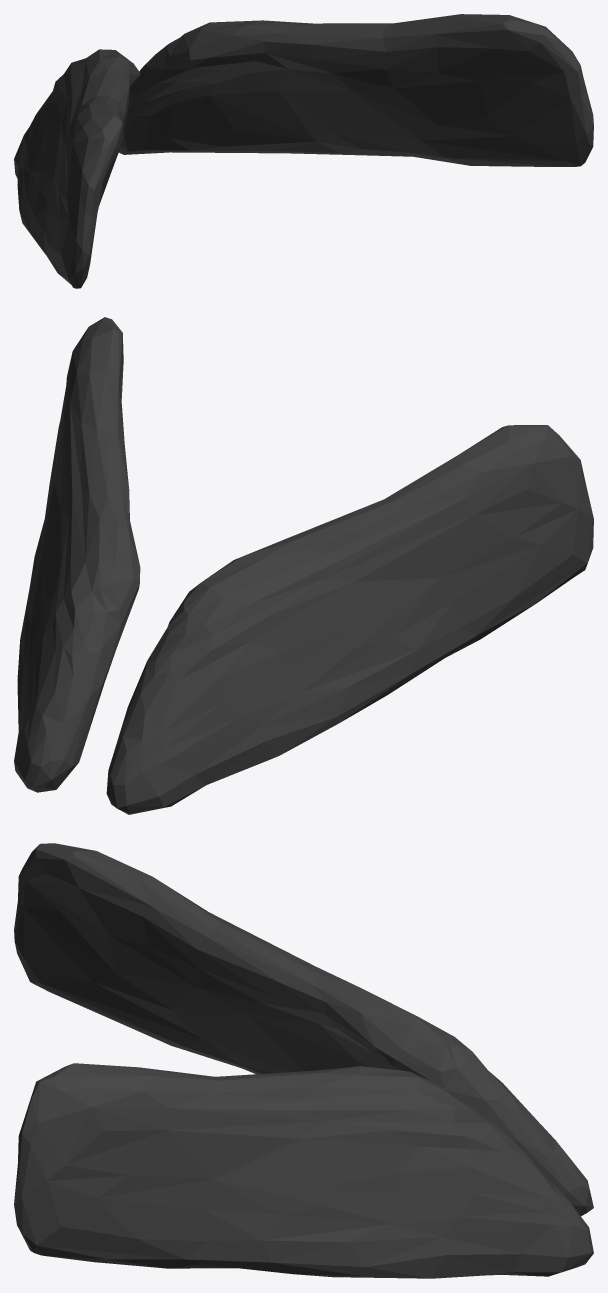
Rendered from m_obliquus_capitis_caudalis.glb.
3 views of the same model, one above another, from view 1: azimuth 30°, elevation 25°; view 2: azimuth 150°, elevation 25°; view 3: azimuth 270°, elevation 25° (orthographic). The views are drawn at different scales.
Parts seen in each view (by area): view 1: m_obliquus_capitis_caudalis; view 2: m_obliquus_capitis_caudalis; view 3: m_obliquus_capitis_caudalis.
Part boxes in pixels (bbox=[...]): m_obliquus_capitis_caudalis: bbox=[14, 14, 593, 288]; m_obliquus_capitis_caudalis: bbox=[14, 317, 593, 814]; m_obliquus_capitis_caudalis: bbox=[14, 843, 593, 1278].
Size of the model in its own units: 0.00235 by 0.00112 by 0.00207.
1 material, 1 textured.
